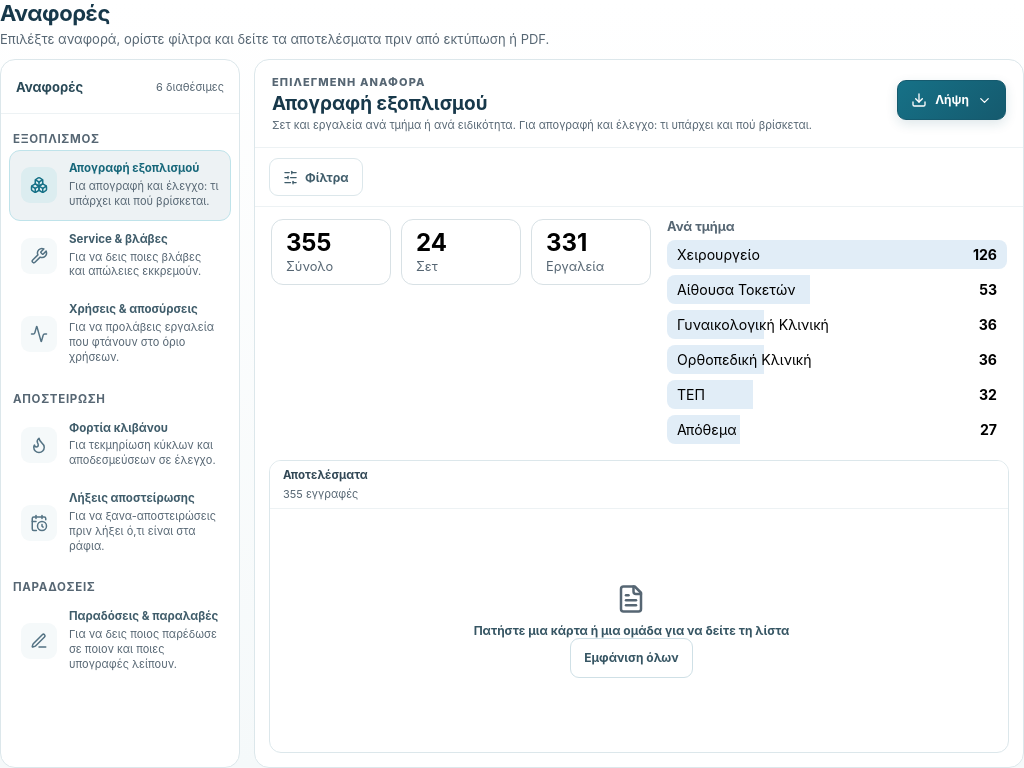
Test case: Reports › groups the inventory by department or by specialty
Click the button "Εμφάνιση όλων" at (632, 658), box [570,638,693,678]
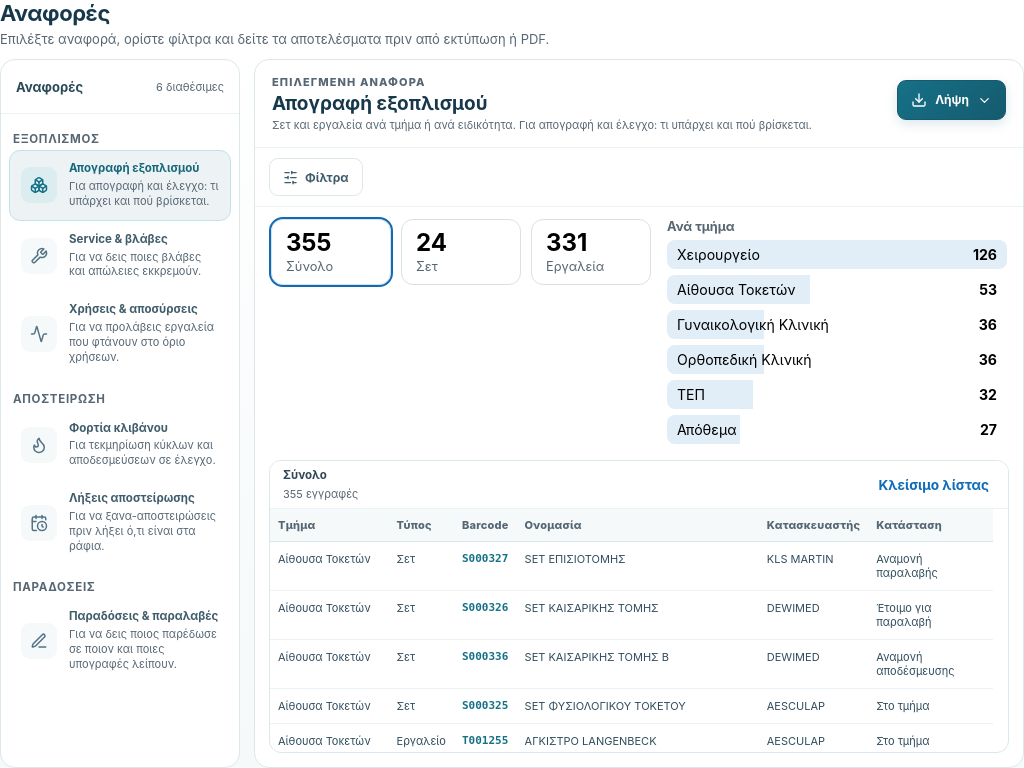
Check: the column heading "Τμήμα" is shown, box [270,509,388,542]
Click the button "Φίλτρα" at (316, 177), box [269,158,363,196]
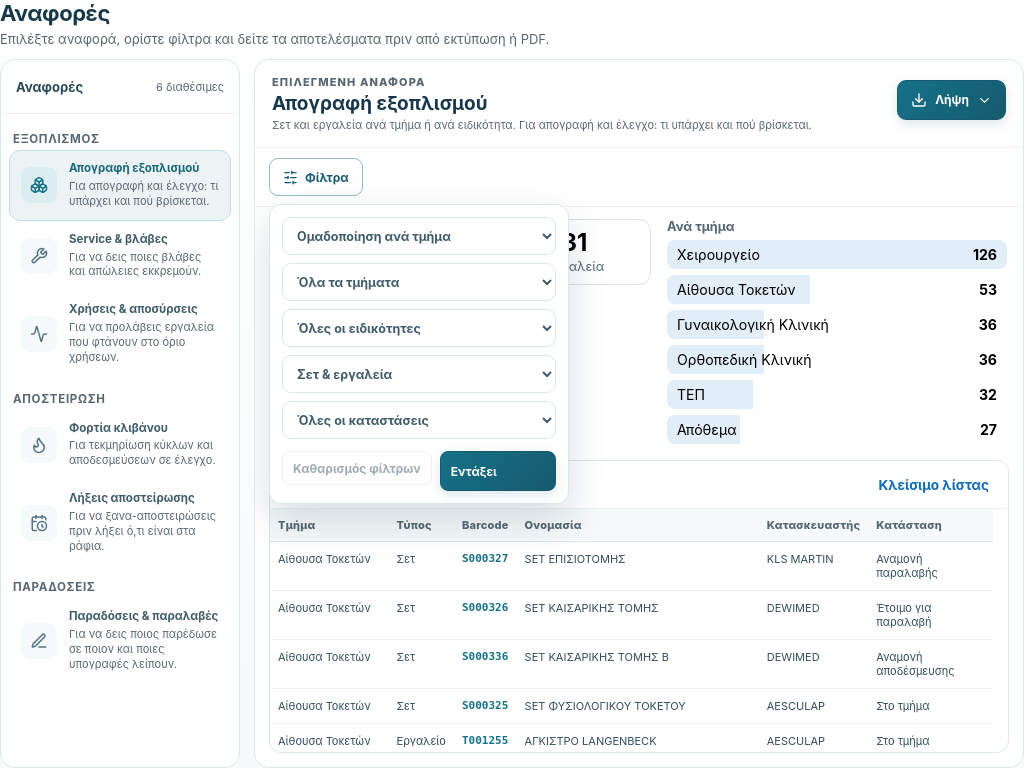
Select "Ομαδοποίηση ανά ειδικότητα" in the dropdown named "Ομαδοποίηση ανά τμήμα" at (419, 236), box [282,217,556,255]
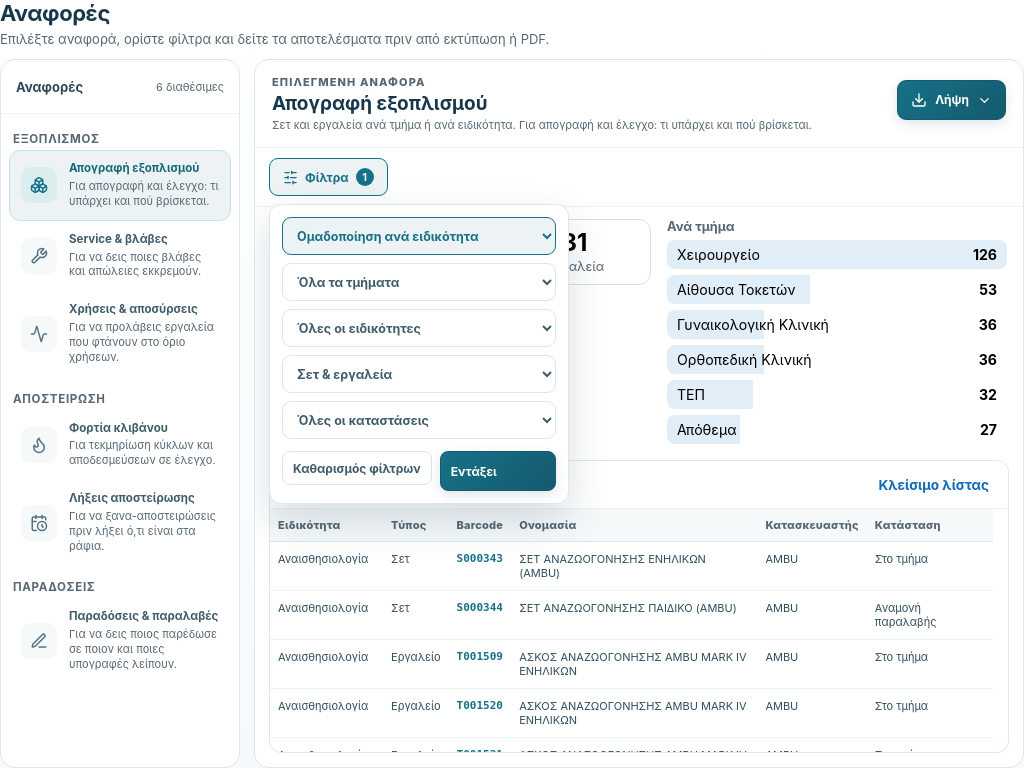
Check: the text "Τμήμα" is not shown
Check: the column heading "Ειδικότητα" is shown, box [270,509,383,542]
